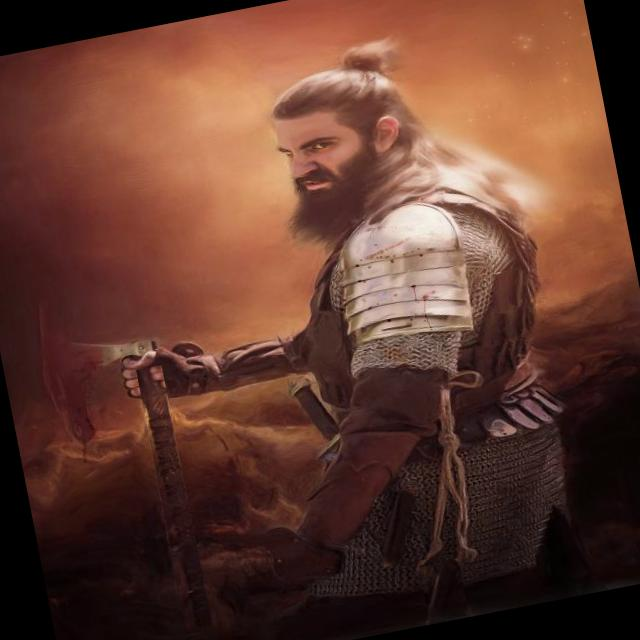Axe: (140, 370, 211, 628), (38, 304, 154, 444)
Knife: (290, 378, 339, 444), (382, 491, 416, 565), (427, 560, 459, 623)
